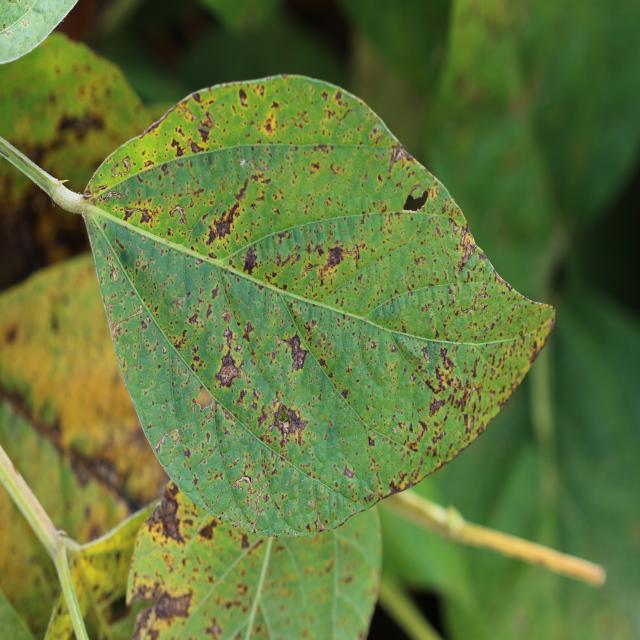Bacterial_Blight: (392, 230, 468, 305), (473, 326, 541, 402), (436, 361, 484, 416), (276, 395, 305, 455), (209, 197, 244, 243), (431, 356, 461, 397), (215, 349, 245, 388), (387, 143, 415, 181), (110, 300, 144, 331), (455, 225, 478, 269), (286, 331, 309, 372), (403, 187, 429, 212), (324, 244, 348, 270), (197, 111, 215, 143), (241, 246, 259, 275), (197, 518, 218, 541), (104, 248, 118, 281), (274, 407, 293, 431), (221, 326, 239, 351), (110, 157, 130, 179), (260, 112, 279, 135), (98, 189, 126, 203), (428, 396, 445, 418), (234, 475, 253, 494), (492, 268, 508, 290), (155, 431, 170, 453), (170, 205, 187, 224), (251, 156, 269, 173), (105, 302, 116, 328), (170, 137, 185, 156), (242, 321, 255, 340), (388, 479, 404, 494), (238, 88, 249, 107), (239, 532, 251, 549), (139, 210, 152, 225), (343, 464, 355, 480), (352, 244, 360, 267), (190, 140, 203, 154), (170, 428, 181, 444), (221, 311, 232, 324), (113, 323, 123, 337), (82, 189, 93, 200), (184, 447, 191, 460), (368, 435, 375, 447)
Soybean: (4, 76, 555, 544)
